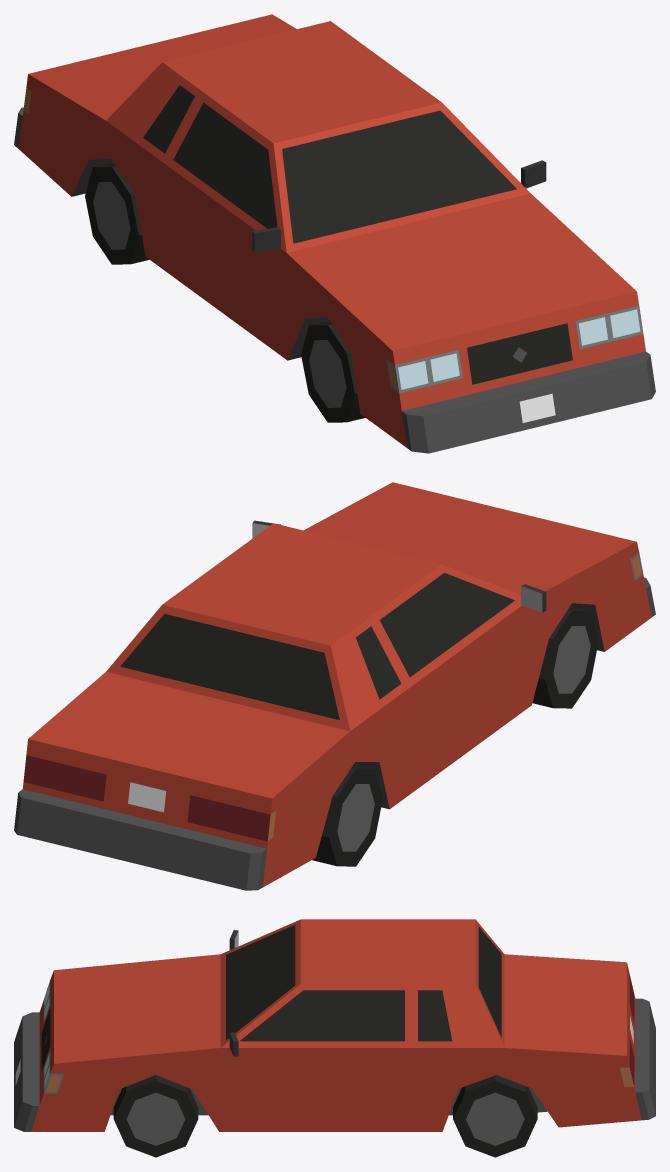
Rendered from Veh_Coupe_03_Red.obj.
3 renders of one model, top to bottom at view 1: azimuth 30°, elevation 25°; view 2: azimuth 150°, elevation 25°; view 3: azimuth 270°, elevation 25°, orthographic. The views are drawn at different scales.
Bounding box in the file's own units: 1.14 × 0.7543 × 2.76.
